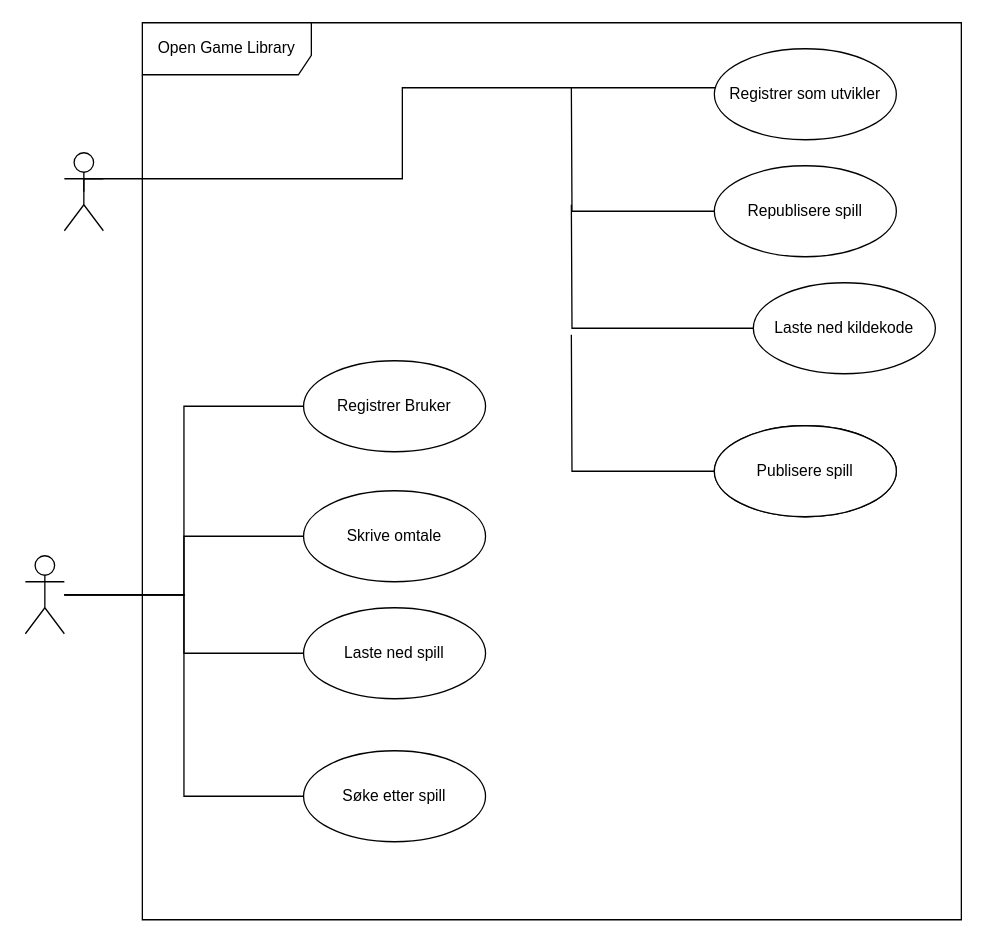
The diagram is 984 pixels wide and 942 high, and some of its shapes have lost their labels. The shapes that lost their labels are listed below. From the top down, each one's box as (x1, y1, x2, y2) in pixels, then its label:
(63, 151, 103, 231): Utvikler
(24, 554, 64, 634): Bruker
